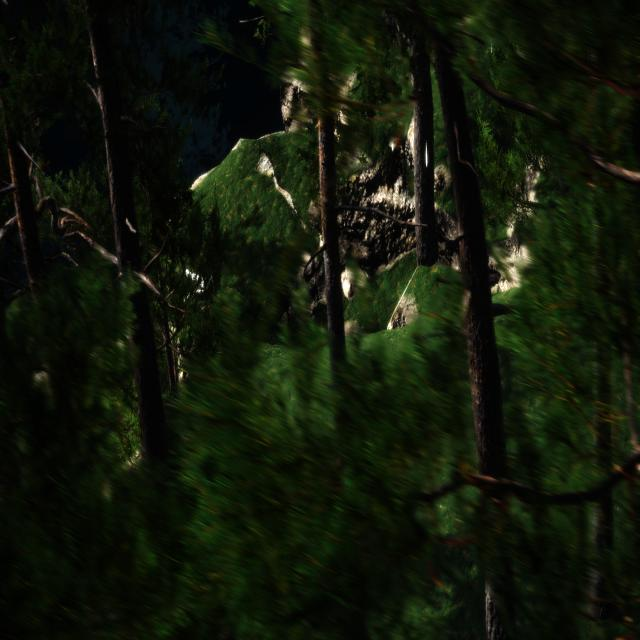Human: (172, 255, 219, 316)
